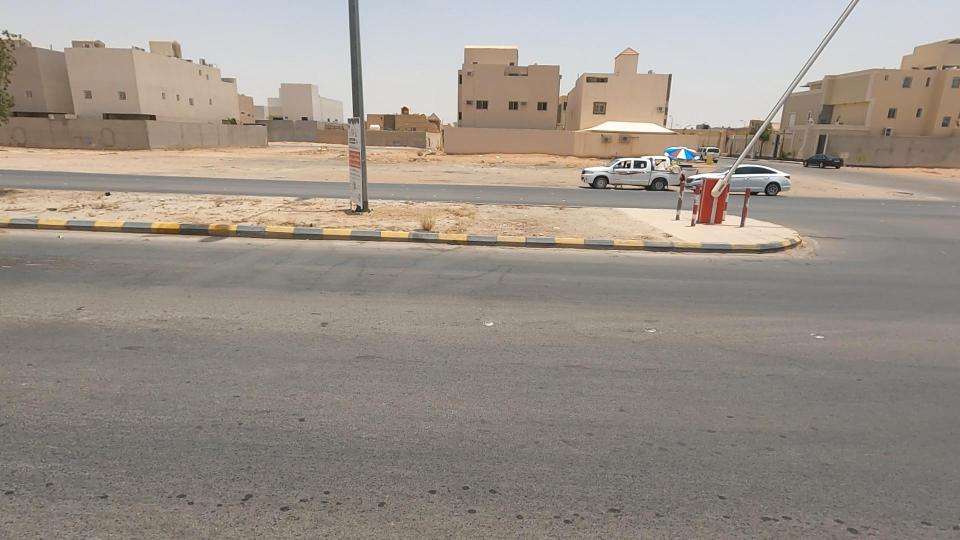CLUTTER_SIDEWALK: (327, 168, 680, 265), (0, 164, 391, 243)
